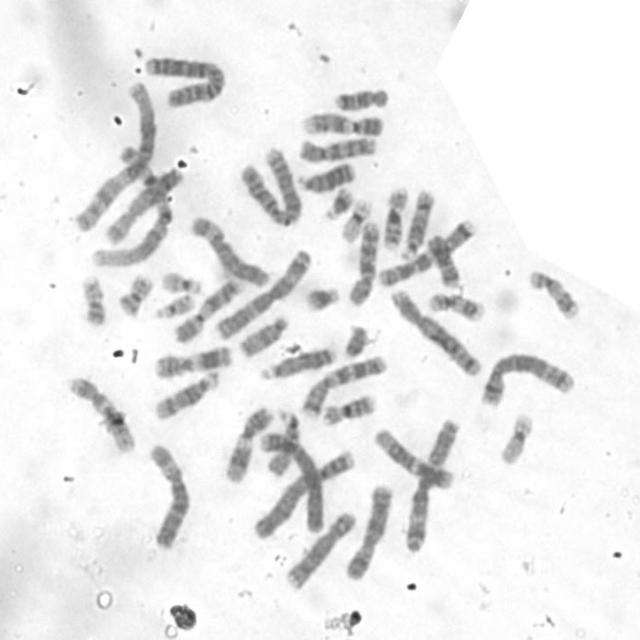A1: (73, 78, 158, 234), (88, 144, 174, 270)
A2: (239, 147, 304, 229), (144, 54, 228, 112)
A3: (214, 246, 312, 340), (403, 419, 459, 556)
B4: (253, 448, 355, 540), (258, 432, 326, 538)
B5: (388, 290, 482, 378), (479, 350, 578, 410)
C10: (346, 220, 381, 310), (294, 135, 380, 163)
C11: (223, 403, 276, 484), (154, 343, 234, 381)
C12: (373, 426, 456, 491), (69, 378, 137, 456)
C6: (185, 213, 271, 290), (145, 446, 193, 552)
C7: (377, 218, 478, 288), (300, 355, 389, 418)
C8: (103, 166, 183, 246), (286, 512, 358, 589)
C9: (172, 279, 242, 344), (301, 111, 384, 138)
D13: (258, 348, 336, 380), (297, 162, 357, 194)
D14: (150, 369, 222, 424), (400, 187, 437, 262)
D15: (264, 407, 304, 478), (237, 316, 290, 360)
E16: (381, 183, 409, 254), (321, 394, 377, 426)
E17: (522, 267, 582, 327), (428, 290, 488, 324)
E18: (426, 234, 462, 289), (332, 87, 389, 114)
F19: (496, 412, 533, 471), (338, 197, 374, 244)
F20: (116, 270, 153, 320), (78, 273, 110, 327)
G21: (324, 185, 357, 223), (301, 285, 341, 316)
G22: (158, 269, 204, 296), (154, 294, 197, 322)
X: (344, 483, 393, 584)
Y: (342, 322, 368, 357)
